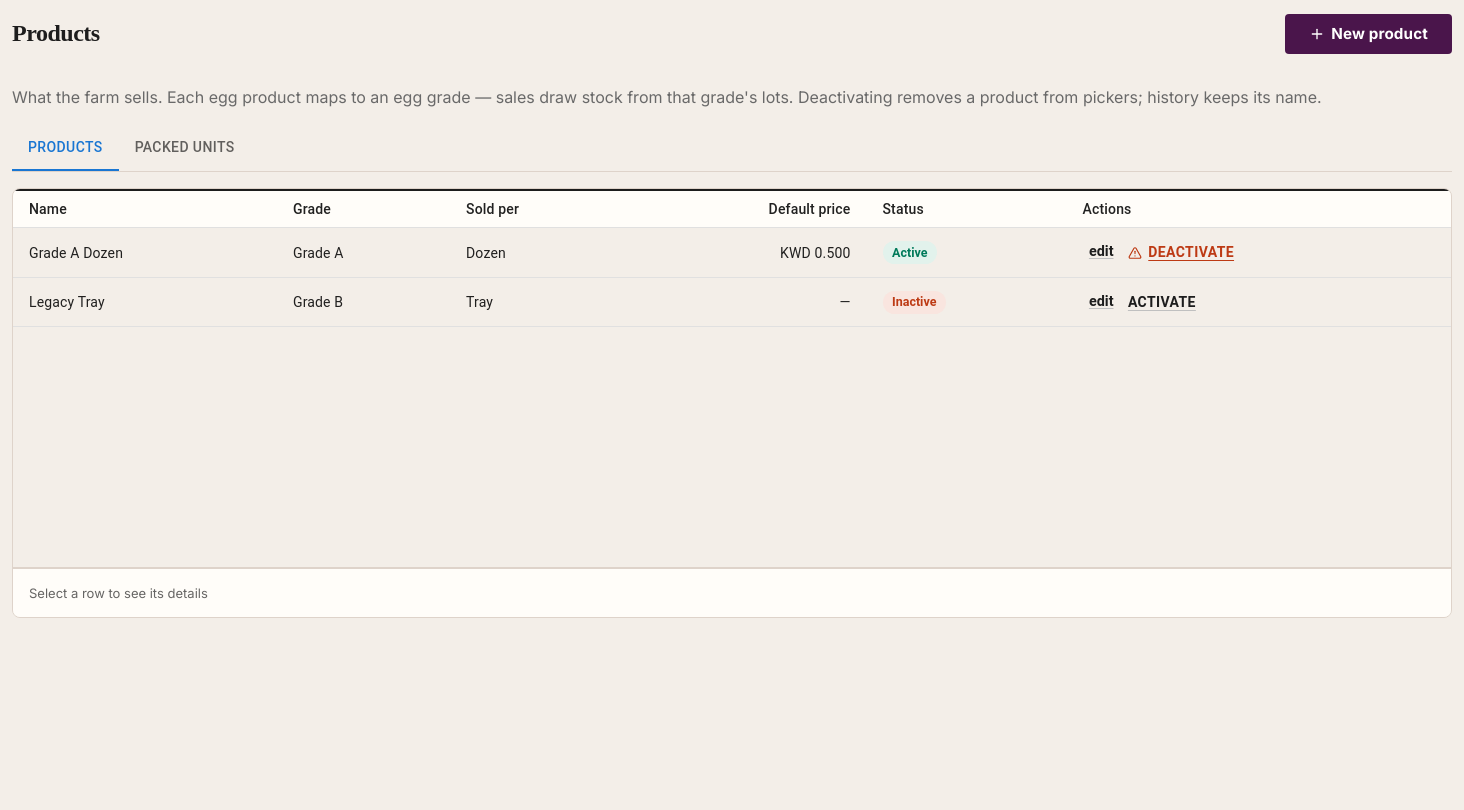
ProductsPage tabs + selected-record inspector (#908) › switches to Packed units and shows its own table, hiding Products
expect the row "Grade A Dozen Grade A Dozen KWD 0.500 Active edit deactivate" is shown: met, box [13,228,1451,277]
Step 1. Click the tab "Packed units" → coordinates (185, 147), box [119,123,250,171]
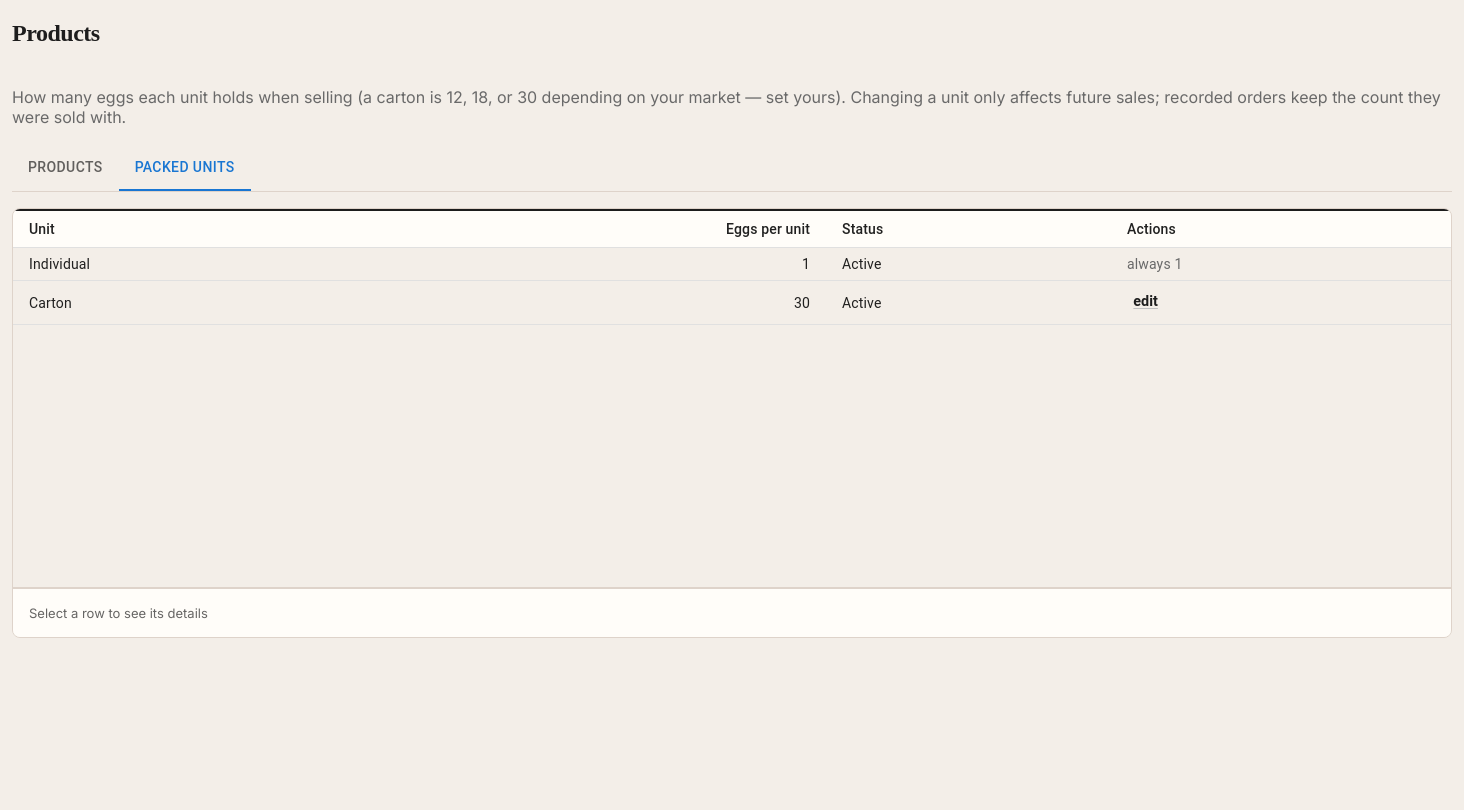
expect the tab "Packed units" is shown: met, box [119,143,250,191]
expect the row "Carton 30 Active edit" is shown: met, box [13,281,1451,324]
expect the text "Grade A Dozen" is gone: met
